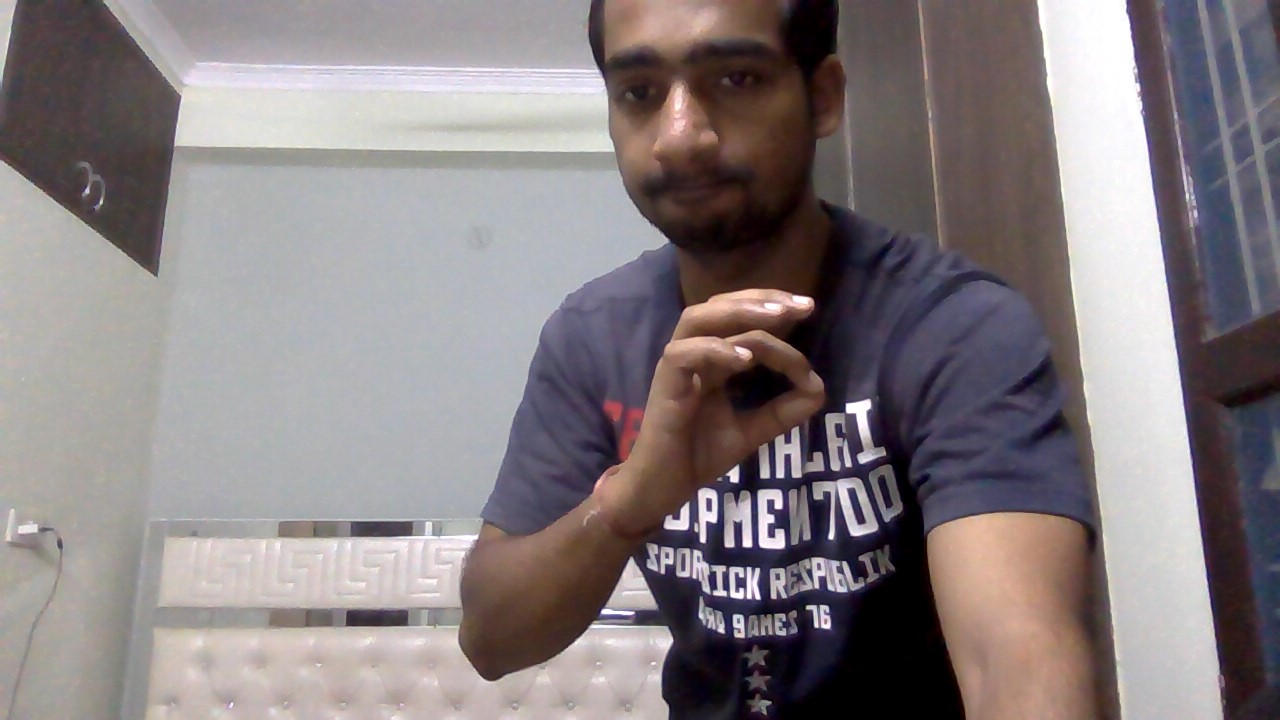Copy: (625, 275, 830, 546)
